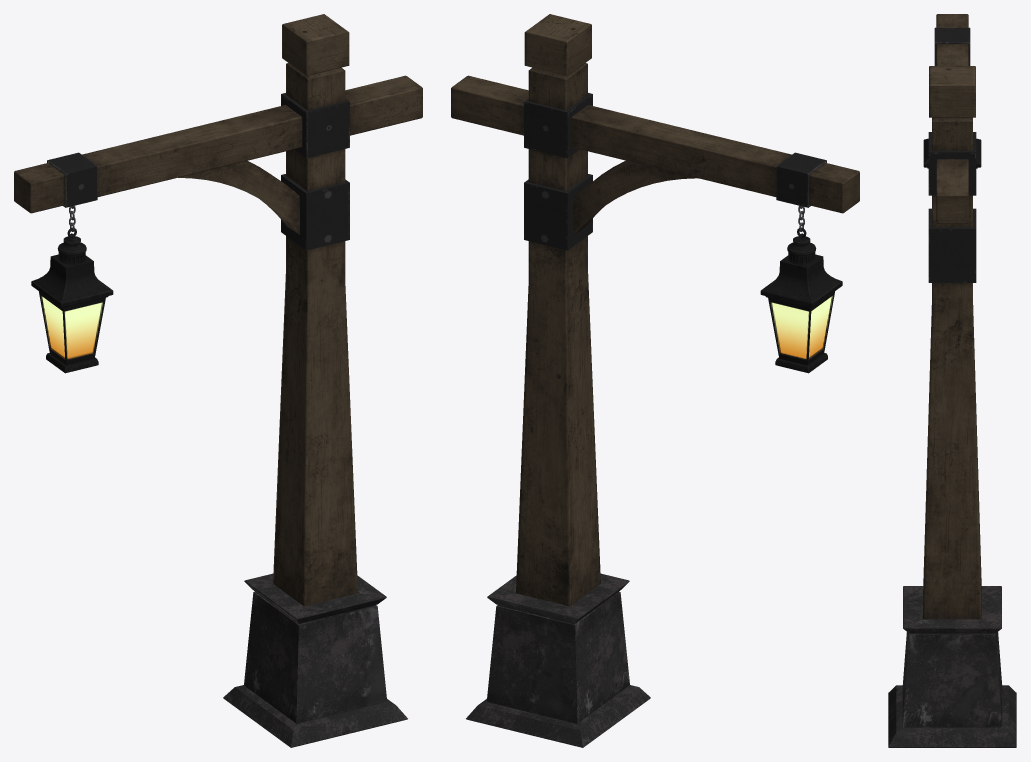
Rendered from Lantern.gltf.
The picture shows the model from 3 angles, left to right: view 1: azimuth 30°, elevation 25°; view 2: azimuth 150°, elevation 25°; view 3: azimuth 270°, elevation 25°; orthographic projection. The views are drawn at different scales.
Visible parts, largest first — view 1: LanternPole_Body, LanternPole_Lantern; view 2: LanternPole_Body, LanternPole_Lantern; view 3: LanternPole_Body, LanternPole_Lantern.
Part boxes in pixels (left/top/right/bottom): LanternPole_Body: left=14, top=14, right=422, bottom=747; LanternPole_Lantern: left=31, top=227, right=113, bottom=373; LanternPole_Body: left=451, top=14, right=859, bottom=747; LanternPole_Lantern: left=760, top=227, right=842, bottom=373; LanternPole_Body: left=888, top=14, right=1016, bottom=747; LanternPole_Lantern: left=923, top=138, right=981, bottom=168.
Size of the model in its own units: 0.9295 by 1.54 by 0.2779.
1 material, 1 textured.
